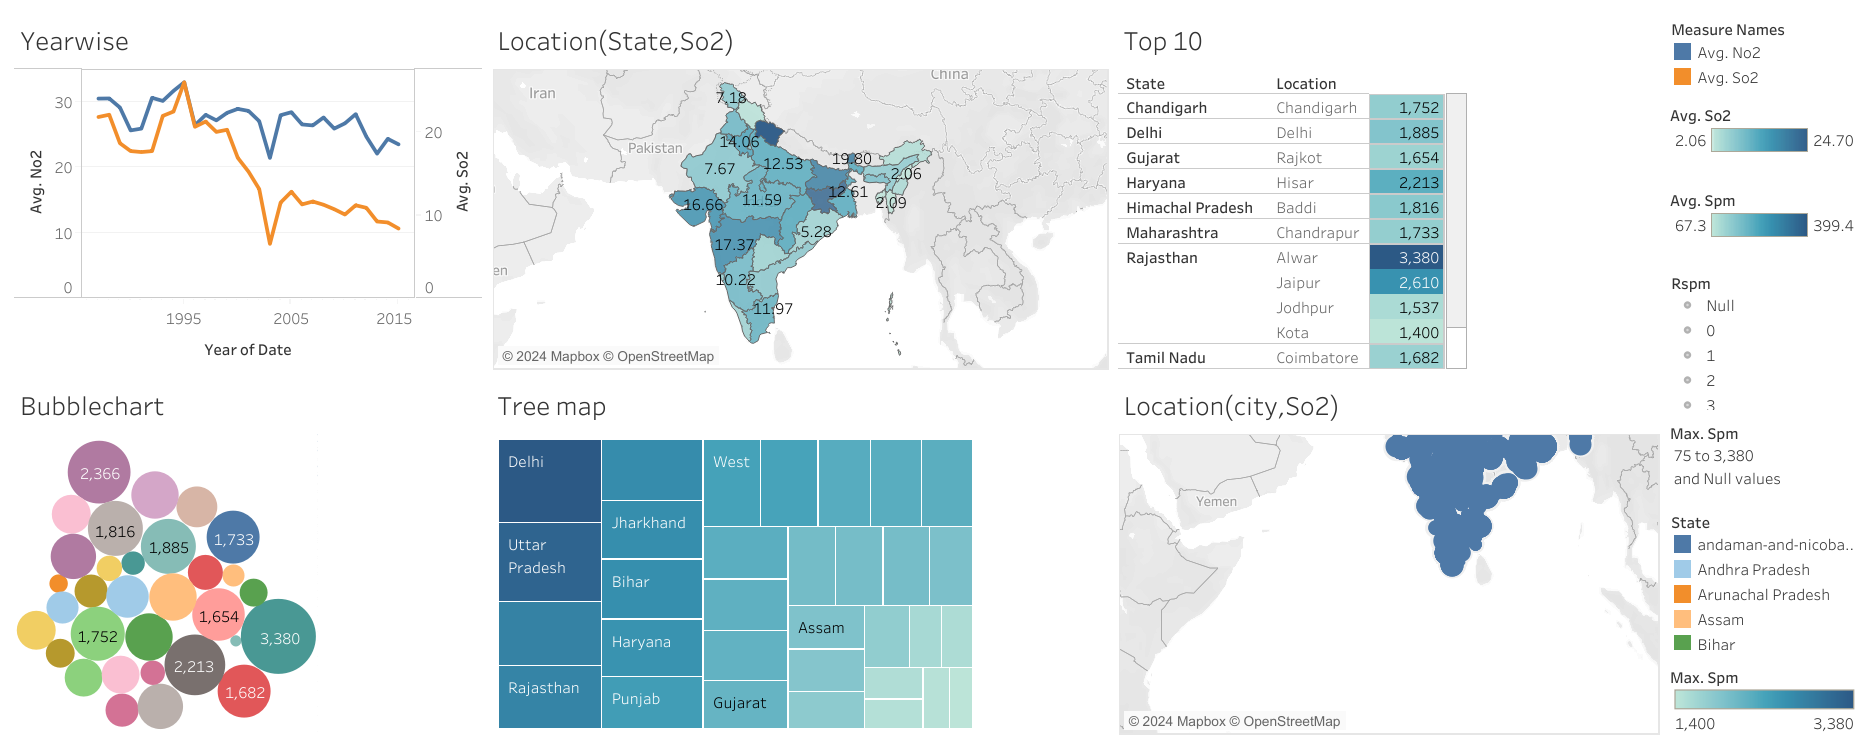

The dashboard page shown, as its layout file describes it:
{"tool":"tableau","page":{"name":"Dashboard 1","canvas":[1000,1000],"units":"permille","ordinal":0},"visuals":[{"type":"worksheet","box":[0,0,1000,1000]},{"type":"worksheet","param":"horz","box":[5.3,9.7,989.3,980.5]},{"type":"worksheet","box":[5.3,9.7,882.7,980.5]},{"type":"worksheet","title":"Yearwise","mark":"Automatic","rows":["no2","so2"],"cols":["date"],"box":[5.3,9.7,254.7,490.3]},{"type":"worksheet","title":"Location(State,So2)","mark":"Automatic","box":[260,9.7,333.7,490.3]},{"type":"worksheet","title":"Top 10","mark":"Square","rows":["state","location"],"box":[593.7,9.7,294.3,490.3]},{"type":"worksheet","param":"vert","box":[888,9.7,106.7,980.5]},{"type":"worksheet","title":"Yearwise","mark":"Automatic","rows":["no2","so2"],"cols":["date"],"param":"[federated.1wjmj121ym2aa11ef2voj0dd4i2c].[:Measure Names]","box":[888,9.7,106.7,87.6]},{"type":"worksheet","title":"Location(State,So2)","mark":"Automatic","param":"[federated.1wjmj121ym2aa11ef2voj0dd4i2c].[avg:so2:qk]","box":[888,97.3,106.7,88.8]},{"type":"worksheet","title":"Tree map","mark":"Automatic","param":"[federated.1wjmj121ym2aa11ef2voj0dd4i2c].[avg:spm:qk]","box":[888,186.1,106.7,88.8]},{"type":"worksheet","title":"Location(city,So2)","mark":"Automatic","param":"[federated.1wjmj121ym2aa11ef2voj0dd4i2c].[none:rspm:ok]","box":[888,274.9,106.7,268.9]},{"type":"worksheet","title":"Bubblechart","mark":"Circle","box":[5.3,500,254.7,490.3]},{"type":"worksheet","title":"Tree map","mark":"Automatic","box":[260,500,333.7,490.3]},{"type":"worksheet","title":"Location(city,So2)","mark":"Automatic","box":[593.7,500,294.3,490.3]},{"type":"worksheet","title":"Bubblechart","mark":"Circle","param":"[federated.1wjmj121ym2aa11ef2voj0dd4i2c].[max:spm:qk]","box":[888,543.8,106.7,88.8]},{"type":"worksheet","title":"Bubblechart","mark":"Circle","param":"[federated.1wjmj121ym2aa11ef2voj0dd4i2c].[none:state:nk]","box":[888,632.6,106.7,268.9]},{"type":"worksheet","title":"Top 10","mark":"Square","rows":["state","location"],"param":"[federated.1wjmj121ym2aa11ef2voj0dd4i2c].[max:spm:qk]","box":[888,901.5,106.7,88.8]}]}

Visuals, with their boxes on the dashboard's canvas, which has no fixed pixel size, in thousandths of its width and height (x1, y1, x2, y2). These are canvas units, not pixel positions in the 1875x750 screenshot, which may show the page scaled, cropped or inside an application window:
worksheet: <bbox>0, 0, 1000, 1000</bbox>
worksheet: <bbox>5, 10, 995, 990</bbox>
worksheet: <bbox>5, 10, 888, 990</bbox>
"Yearwise" worksheet: <bbox>5, 10, 260, 500</bbox>
"Location(State,So2)" worksheet: <bbox>260, 10, 594, 500</bbox>
"Top 10" worksheet (Square marks): <bbox>594, 10, 888, 500</bbox>
worksheet: <bbox>888, 10, 995, 990</bbox>
"Yearwise" worksheet: <bbox>888, 10, 995, 97</bbox>
"Location(State,So2)" worksheet: <bbox>888, 97, 995, 186</bbox>
"Tree map" worksheet: <bbox>888, 186, 995, 275</bbox>
"Location(city,So2)" worksheet: <bbox>888, 275, 995, 544</bbox>
"Bubblechart" worksheet (Circle marks): <bbox>5, 500, 260, 990</bbox>
"Tree map" worksheet: <bbox>260, 500, 594, 990</bbox>
"Location(city,So2)" worksheet: <bbox>594, 500, 888, 990</bbox>
"Bubblechart" worksheet (Circle marks): <bbox>888, 544, 995, 633</bbox>
"Bubblechart" worksheet (Circle marks): <bbox>888, 633, 995, 902</bbox>
"Top 10" worksheet (Square marks): <bbox>888, 902, 995, 990</bbox>
